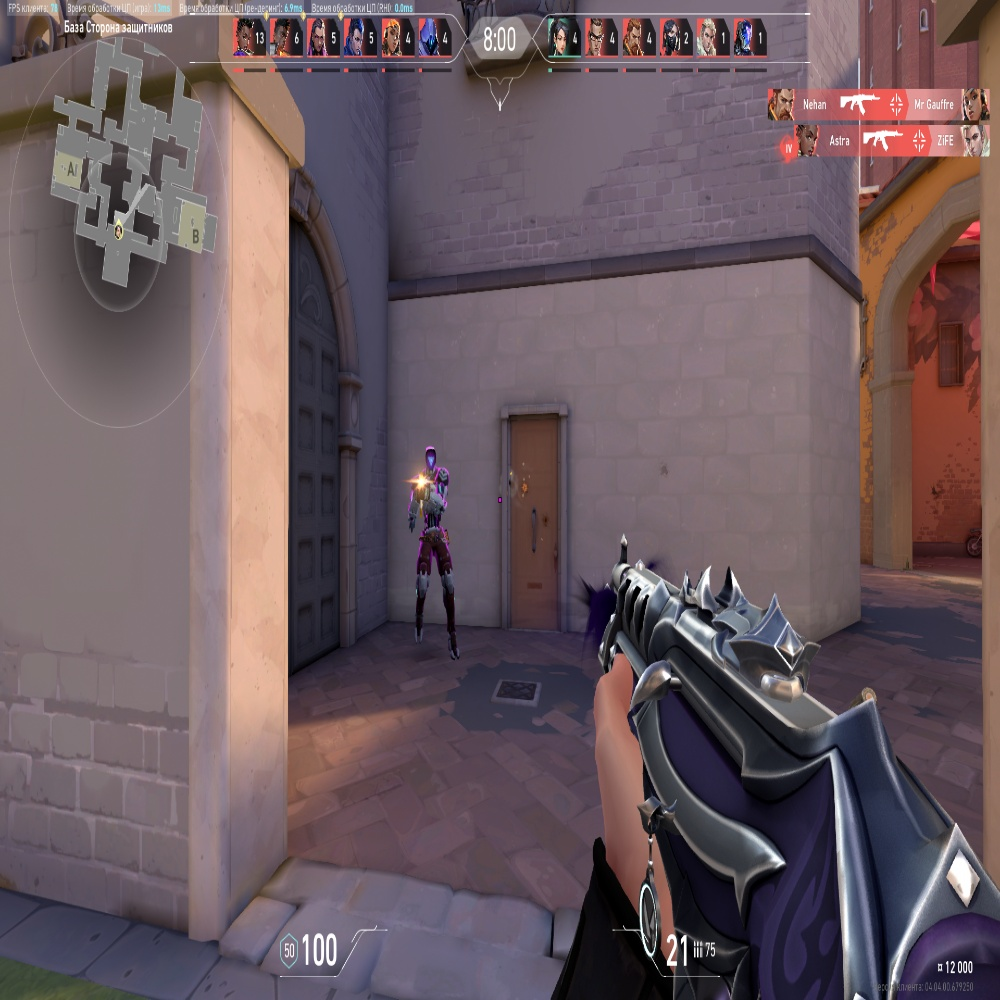body: (416, 478, 447, 533)
head: (424, 447, 437, 471)
